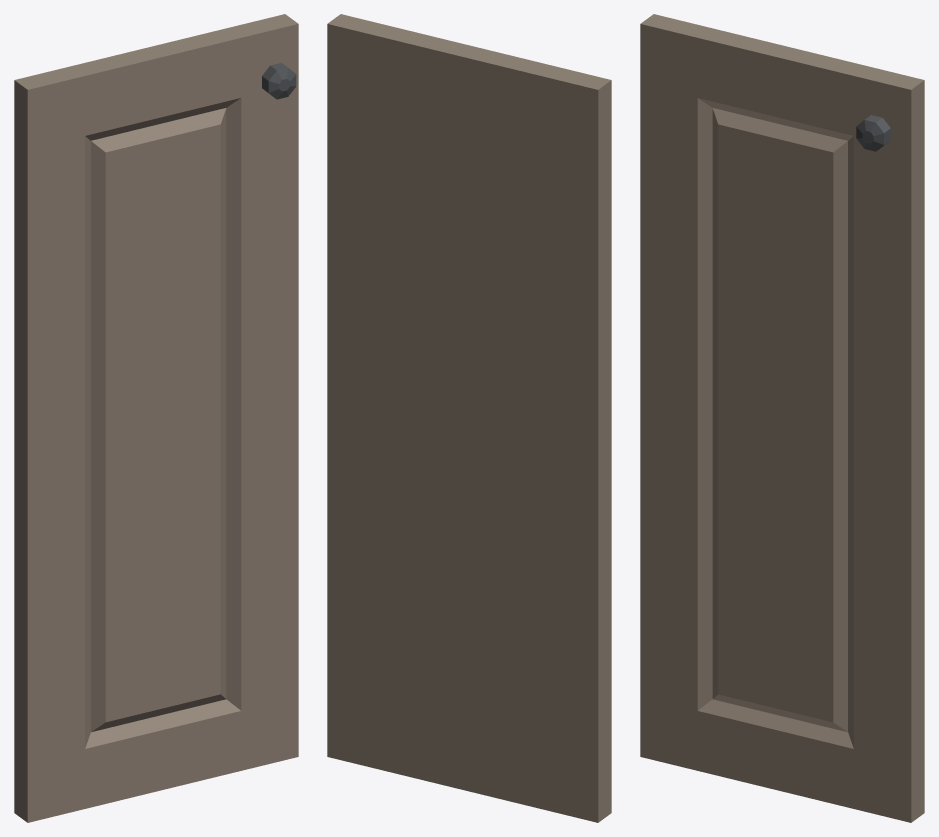
The model's file is Door3_C5_04.fbx.
3 renders of one model, left to right at view 1: azimuth 30°, elevation 25°; view 2: azimuth 150°, elevation 25°; view 3: azimuth 330°, elevation 25°, orthographic.
Visible parts, largest first — view 1: Door3_C5_04; view 2: Door3_C5_04; view 3: Door3_C5_04.
Boxes of the visible parts, box(x1,y1,x2,y2) form: Door3_C5_04: box(14, 14, 298, 822); Door3_C5_04: box(327, 14, 611, 822); Door3_C5_04: box(640, 14, 924, 822).
Bounding box in the file's own units: 29 × 75 × 5.19.
